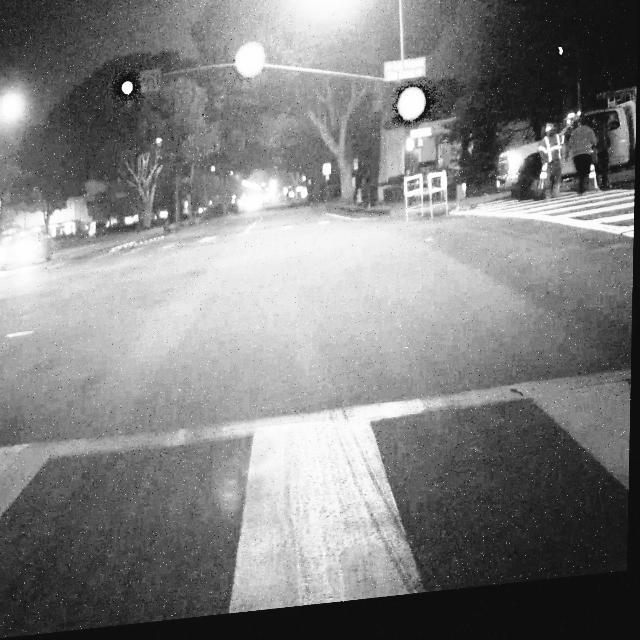Truck: (494, 97, 638, 218)
